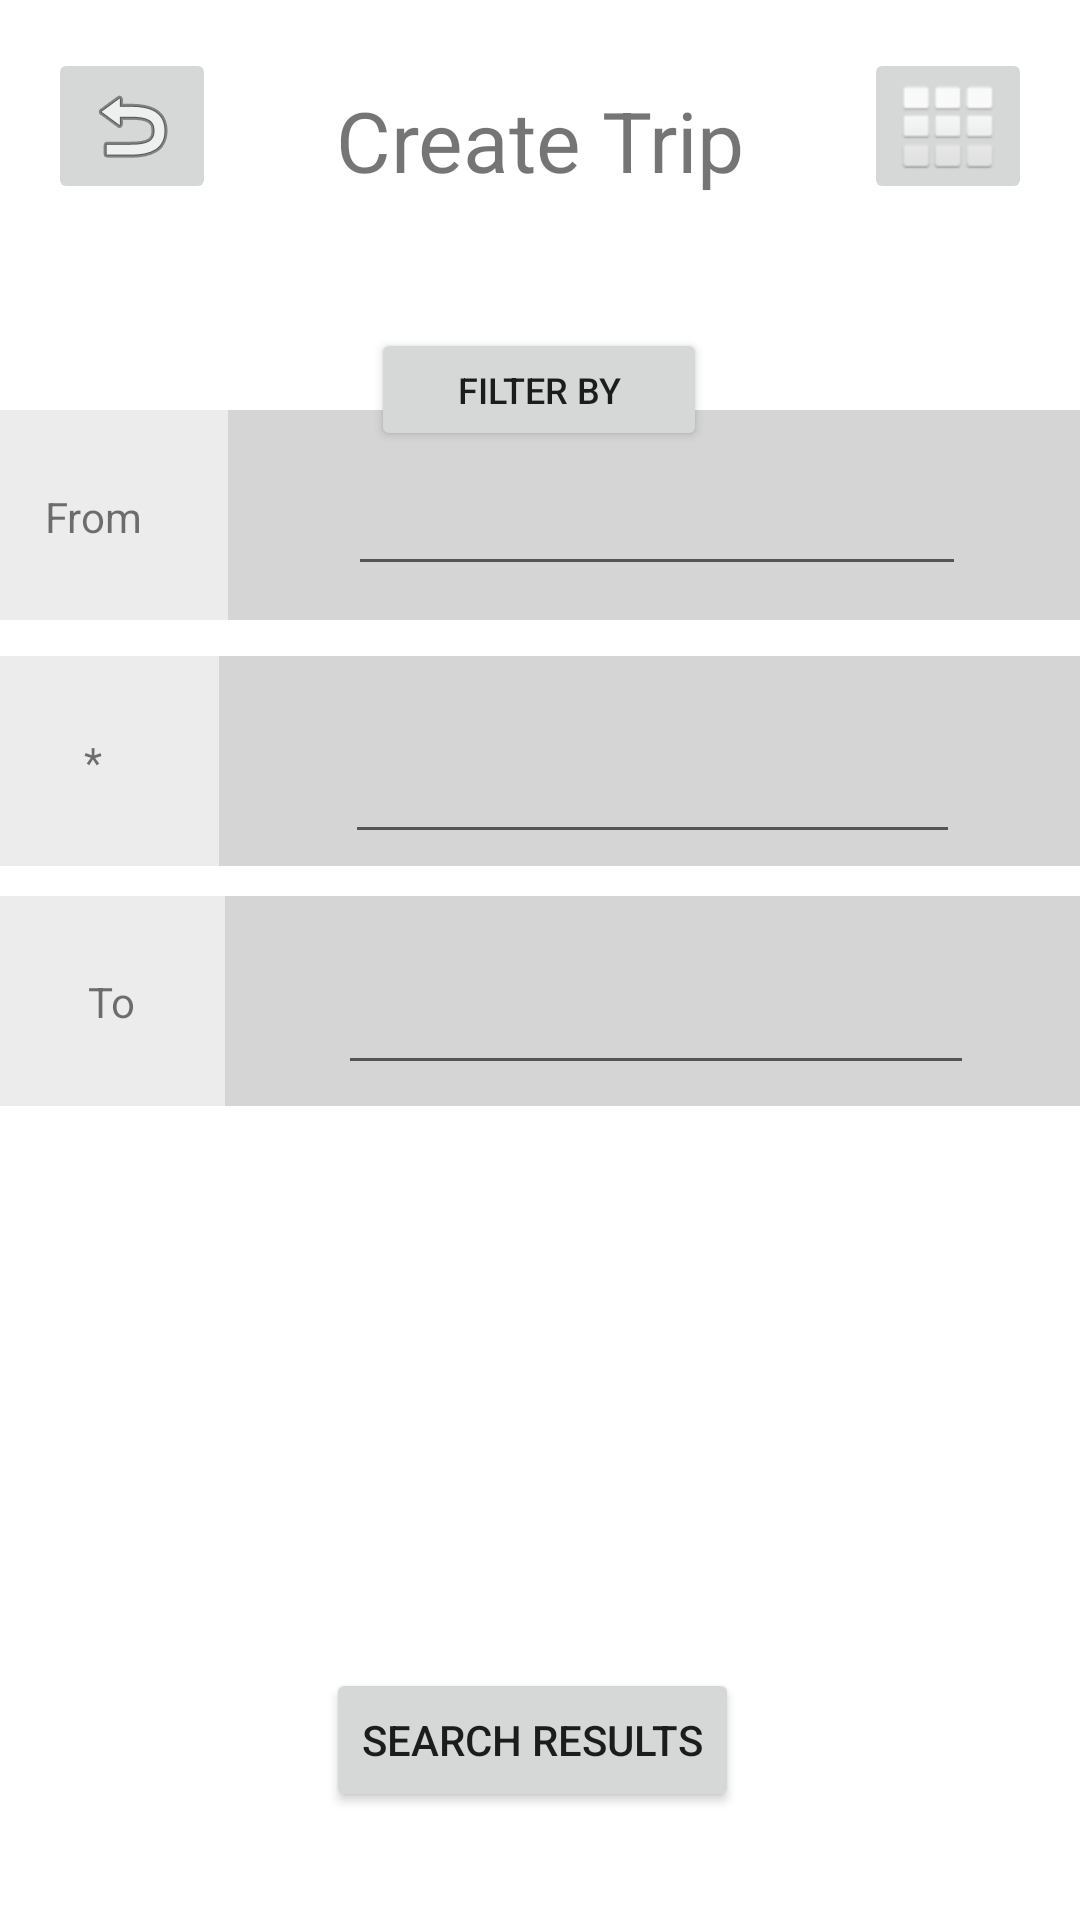

Where icons sit on this 1080*1920 app screen, as (x1, y1, x2, y2):
dialer: (876, 66, 1020, 186)
revert: (60, 66, 204, 186)
